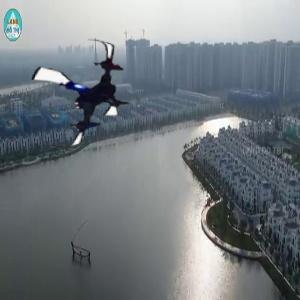drone: (21, 35, 140, 154)
